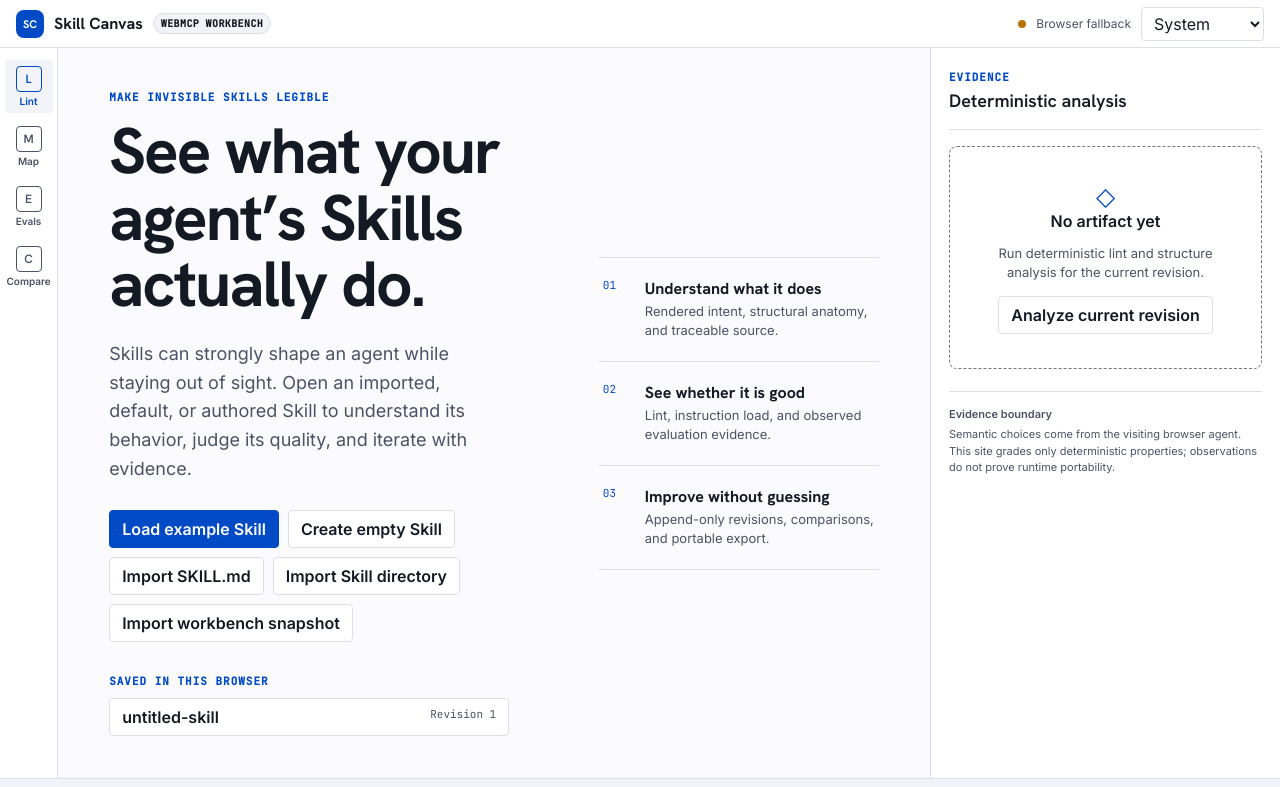
Test case: App WebMCP registration lifecycle › renders content immediately following a heading
Click the button "untitled-skill Revision 1" at x=171, y=717, box [109,698,509,736]
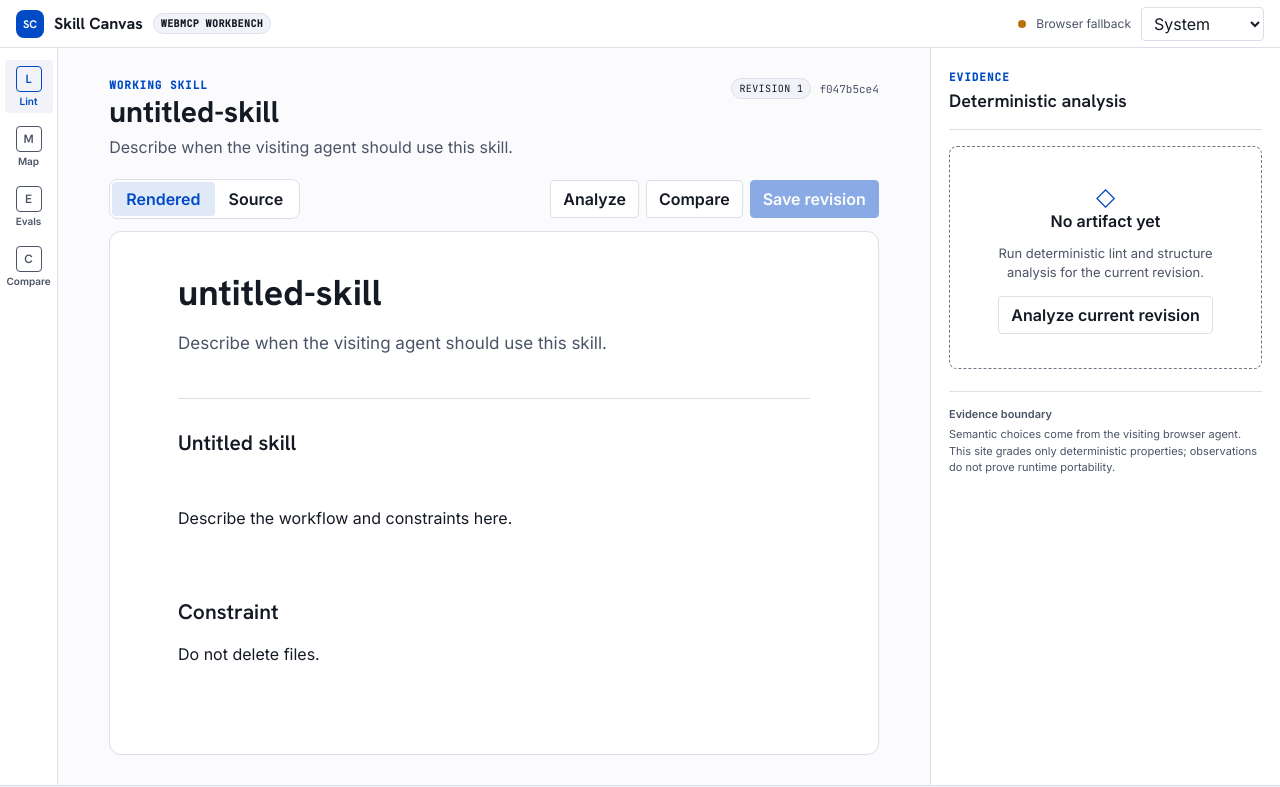
Check: the heading "Constraint" is shown, box [178,598,278,625]
Check: the text "Do not delete files." is shown, box [178,644,320,664]
